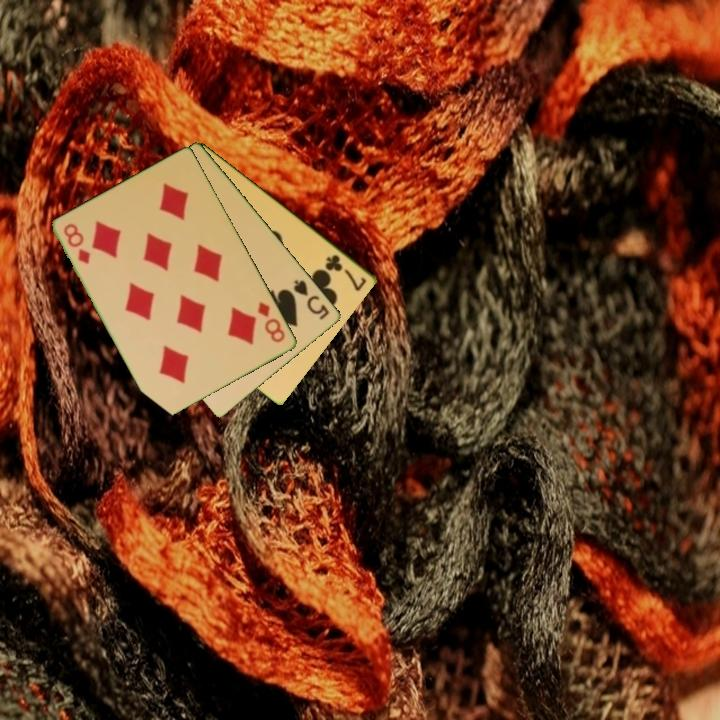5s: (290, 276, 332, 323)
7c: (322, 251, 370, 294)
8d: (254, 298, 289, 346), (60, 220, 94, 267)
